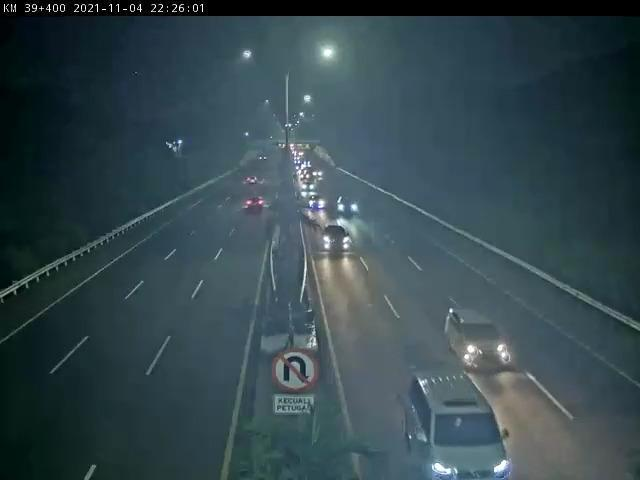car: (403, 356, 505, 480), (442, 296, 518, 372), (322, 228, 357, 260), (340, 197, 363, 222), (312, 199, 332, 220), (247, 194, 269, 213)
